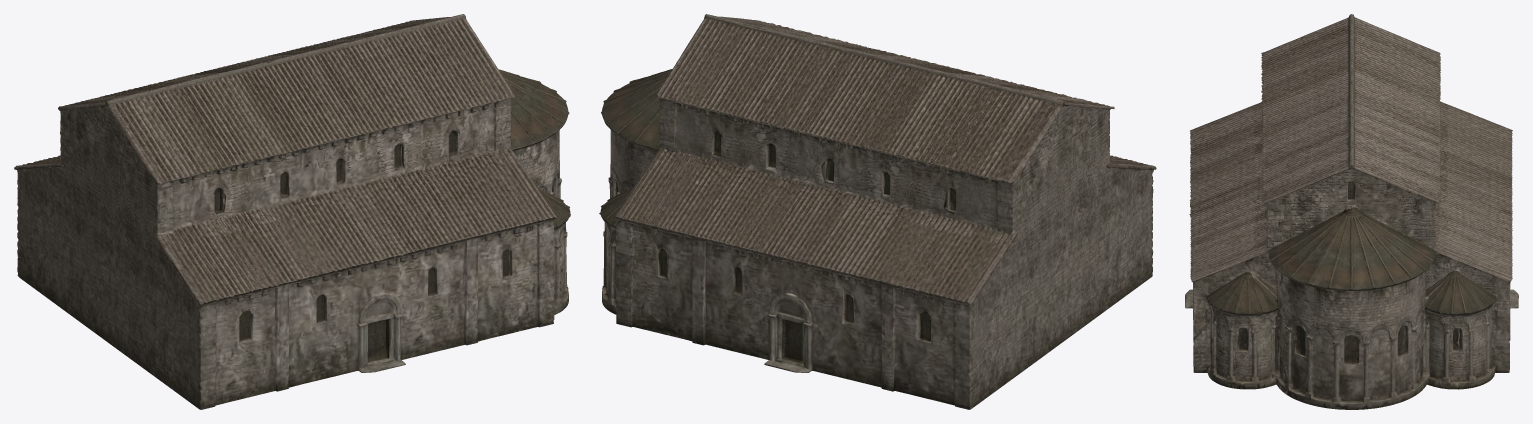
The model's file is town_center__stone-basilica.glb.
3 renders of one model, left to right at view 1: azimuth 30°, elevation 25°; view 2: azimuth 150°, elevation 25°; view 3: azimuth 270°, elevation 25°, orthographic. The views are drawn at different scales.
Bounding box in the file's own units: 1.9 × 0.9797 × 1.42.
1 material, 1 textured.
